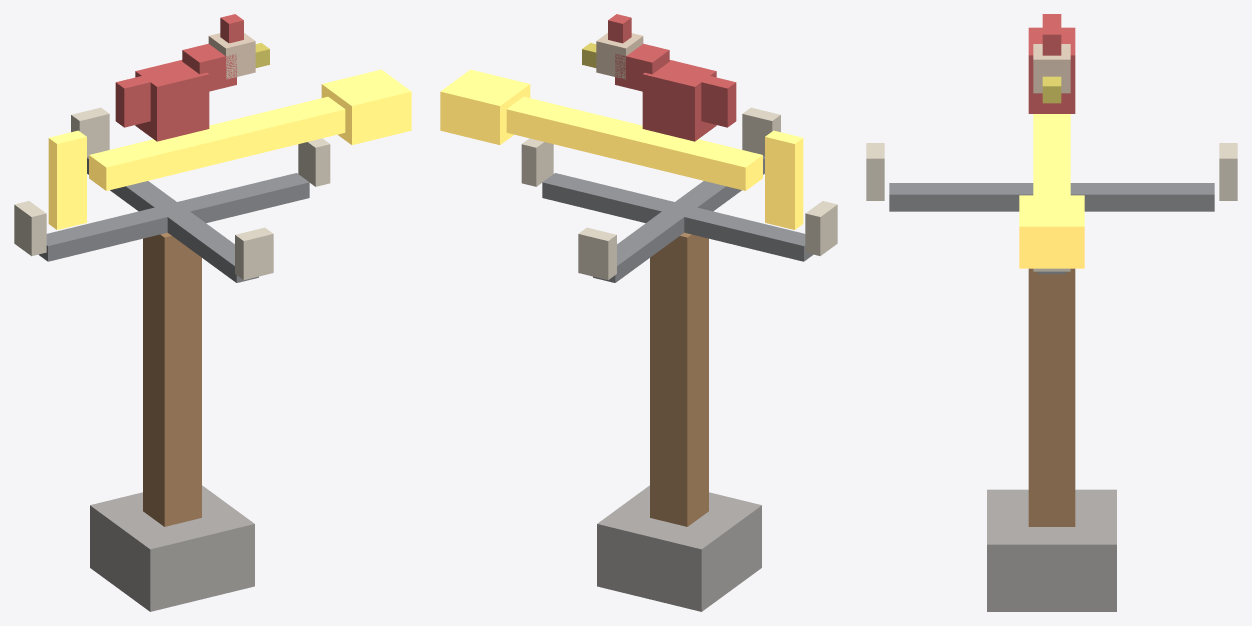
File: wind-vane.glb
3 renders of one model, left to right at view 1: azimuth 30°, elevation 25°; view 2: azimuth 150°, elevation 25°; view 3: azimuth 270°, elevation 25°, orthographic. The views are drawn at different scales.
Parts seen in each view (by area): view 1: built-wind-vane; view 2: built-wind-vane; view 3: built-wind-vane.
Part boxes in pixels (box(x1,y1,x2,y2)): built-wind-vane: box(14, 14, 411, 611); built-wind-vane: box(440, 14, 837, 611); built-wind-vane: box(866, 14, 1237, 611).
Bounding box in the file's own units: 1 × 1.39 × 0.8.
